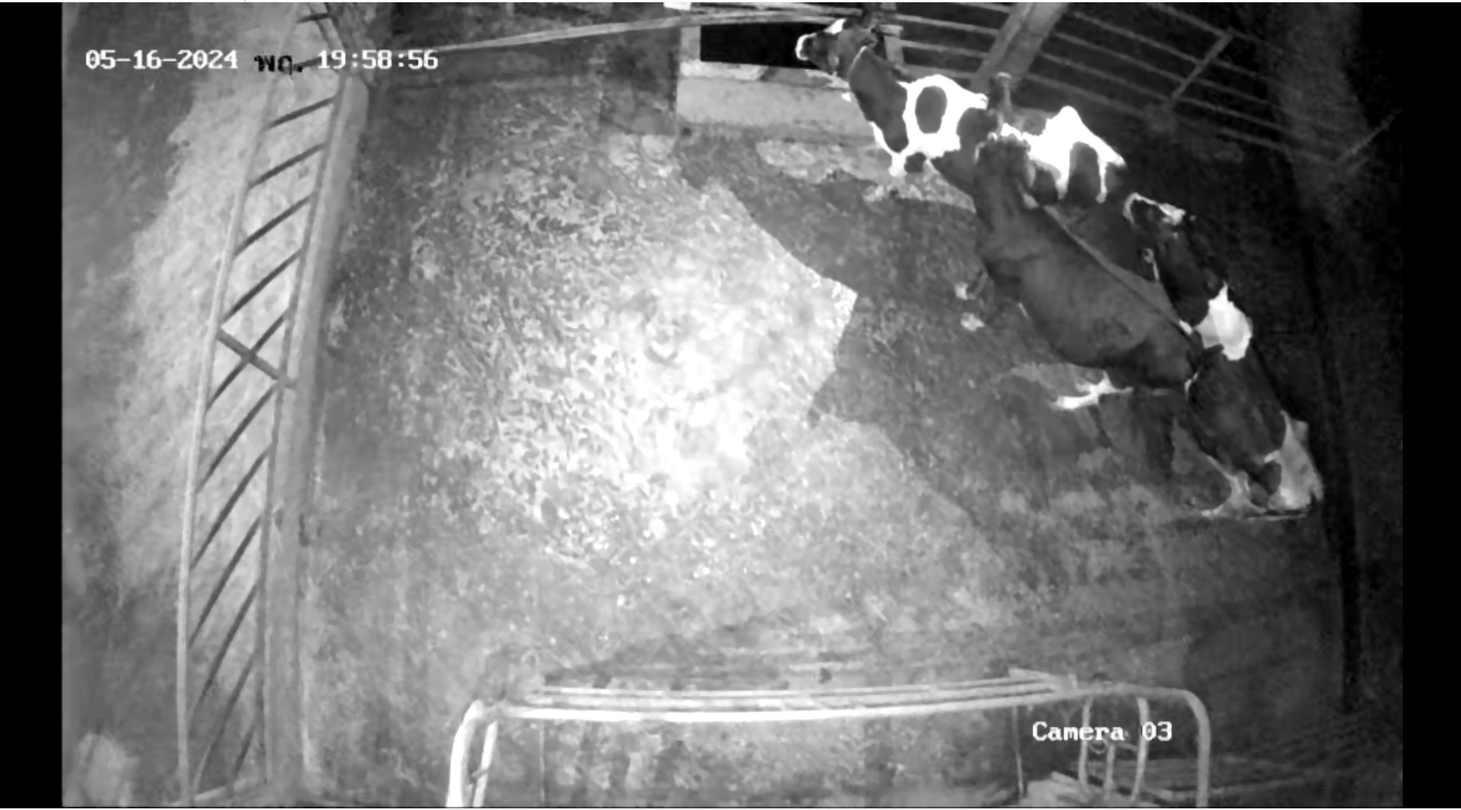drink: (776, 10, 893, 135)
propping: (952, 64, 1053, 232)
stand: (1124, 192, 1331, 525)
